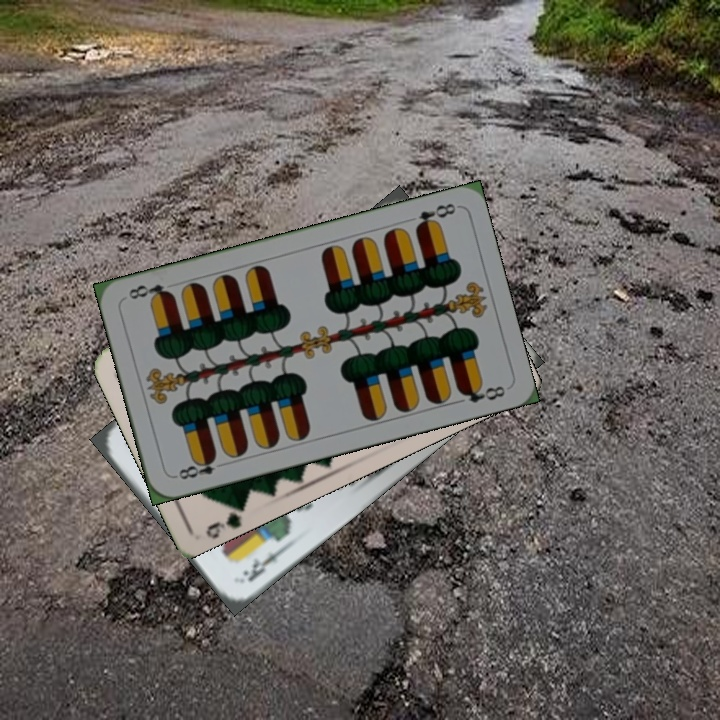E8: (170, 451, 229, 482), (411, 199, 459, 233)
EK: (238, 543, 288, 585)
G9: (201, 498, 249, 540)
